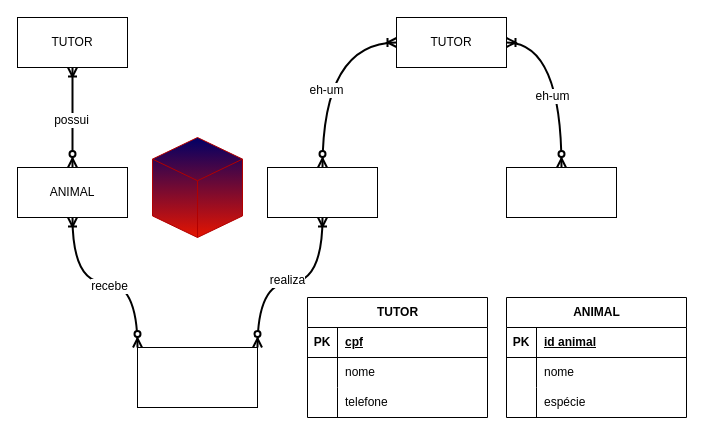
This 704x435 diagram has some shape labels left out. The box of each missing label's shape, as (x1, y1, x2, y2) in pixels:
ATENDENTE: (506, 166, 616, 218)
CONSULTA: (136, 346, 258, 408)
VERTERINARIO: (266, 166, 378, 218)
